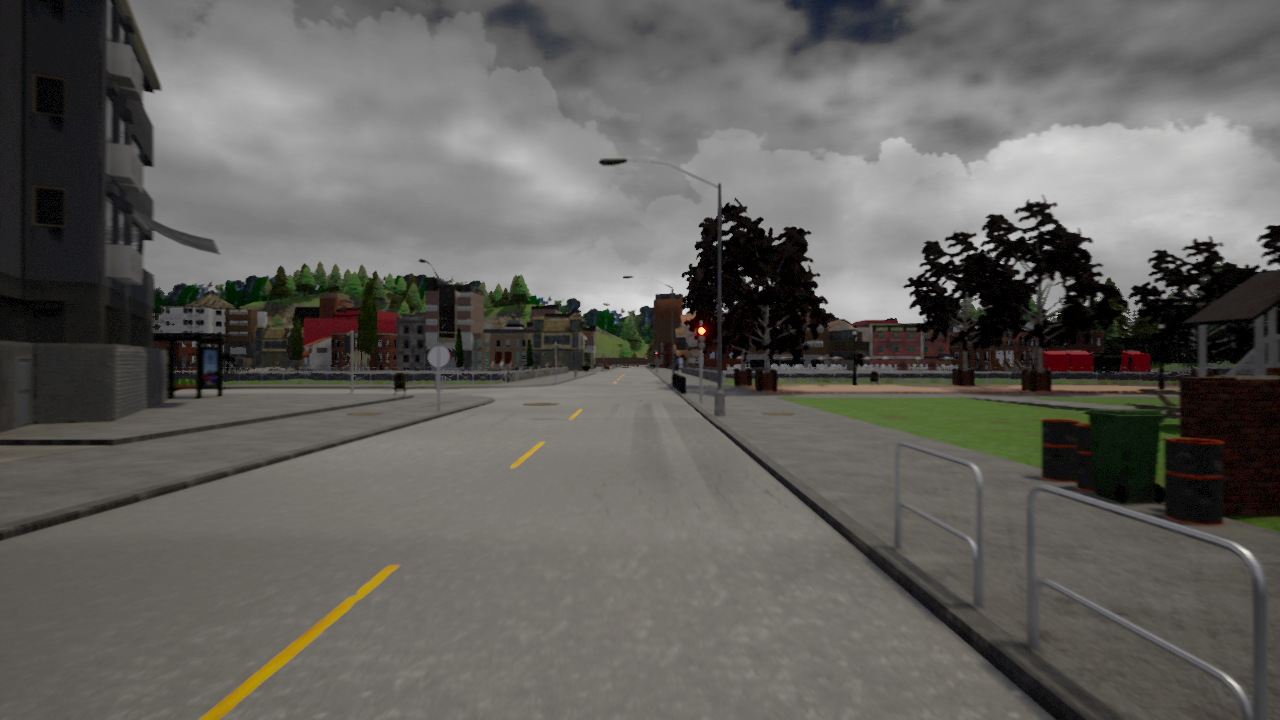red: (696, 326, 705, 349)
